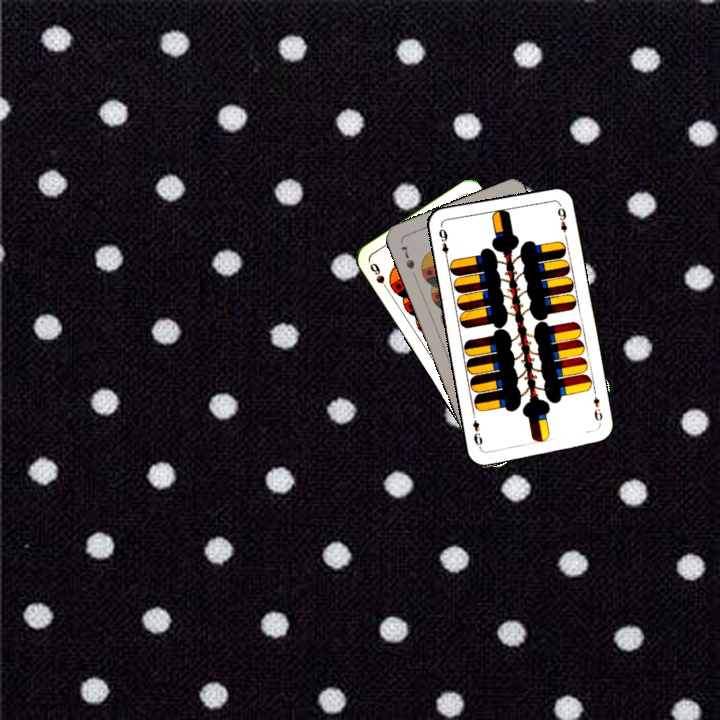E9: (435, 223, 451, 264), (589, 388, 605, 428)
S7: (397, 242, 417, 272)
S9: (366, 259, 393, 295)
